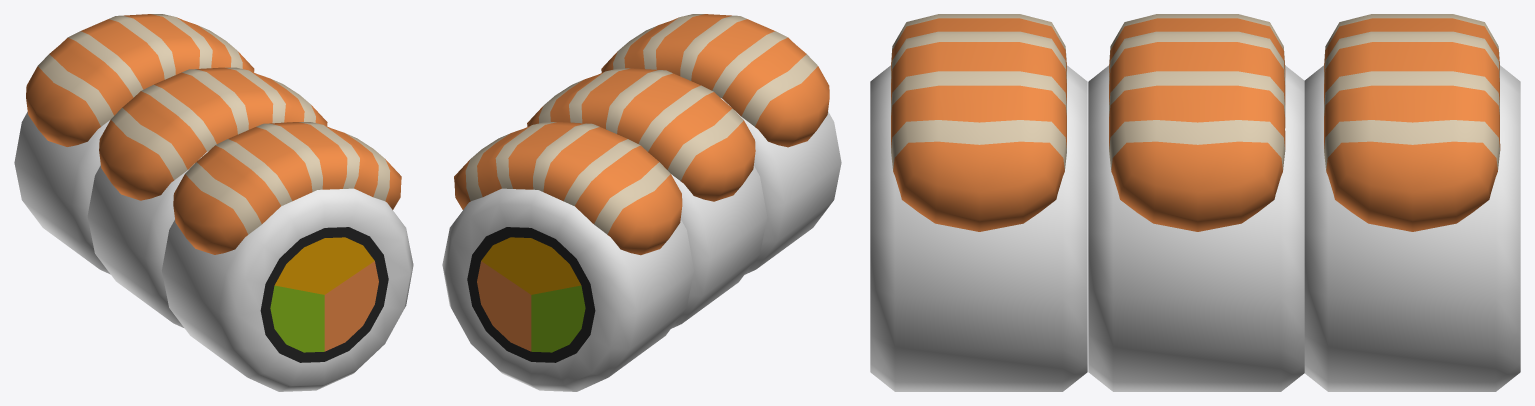
File: Food_SalmonRoll.glb
The picture shows the model from 3 angles, left to right: view 1: azimuth 30°, elevation 25°; view 2: azimuth 150°, elevation 25°; view 3: azimuth 270°, elevation 25°; orthographic projection. The views are drawn at different scales.
Visible parts, largest first — view 1: Food_SalmonRoll.001, Food_SalmonRoll, Food_SalmonRoll.002; view 2: Food_SalmonRoll.002, Food_SalmonRoll.001, Food_SalmonRoll; view 3: Food_SalmonRoll.001, Food_SalmonRoll, Food_SalmonRoll.002.
Part boxes in pixels (left/top/right/bottom): Food_SalmonRoll.001: left=161, top=122, right=413, bottom=391; Food_SalmonRoll: left=87, top=67, right=327, bottom=327; Food_SalmonRoll.002: left=14, top=14, right=254, bottom=274; Food_SalmonRoll.002: left=442, top=122, right=694, bottom=391; Food_SalmonRoll.001: left=601, top=14, right=841, bottom=274; Food_SalmonRoll: left=527, top=68, right=767, bottom=328; Food_SalmonRoll.001: left=870, top=14, right=1087, bottom=391; Food_SalmonRoll: left=1088, top=14, right=1304, bottom=391; Food_SalmonRoll.002: left=1304, top=14, right=1520, bottom=391.
Size of the model in its own units: 0.4656 by 0.4994 by 0.8614.
3 materials, 3 textured.
